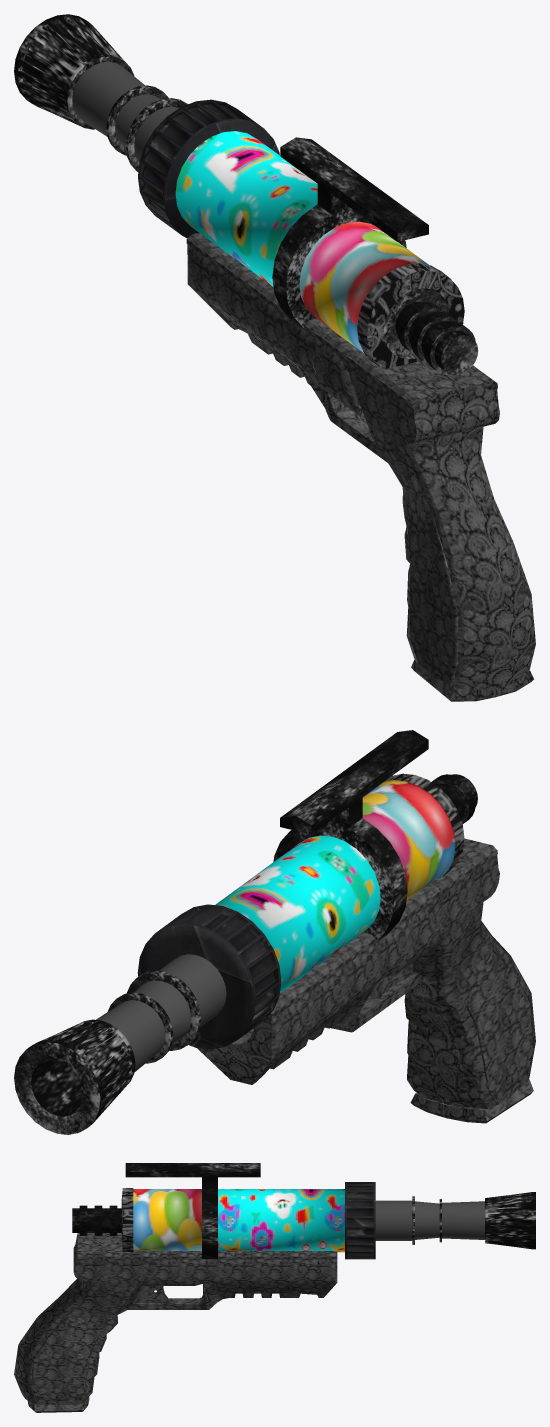
The model's file is Confetti Cannon.fbx.
3 views of the same model, one above another, from view 1: azimuth 30°, elevation 25°; view 2: azimuth 150°, elevation 25°; view 3: azimuth 270°, elevation 25° (orthographic). The views are drawn at different scales.
Parts seen in each view (by area): view 1: CakeGun011; view 2: CakeGun011; view 3: CakeGun011.
Part boxes in pixels (x1,y1,x2,y2): CakeGun011: (14, 14, 535, 701); CakeGun011: (14, 730, 535, 1134); CakeGun011: (14, 1163, 535, 1412).
Size of the model in its own units: 109 by 352 by 699.
Materials: 1 (1 with a texture image).
